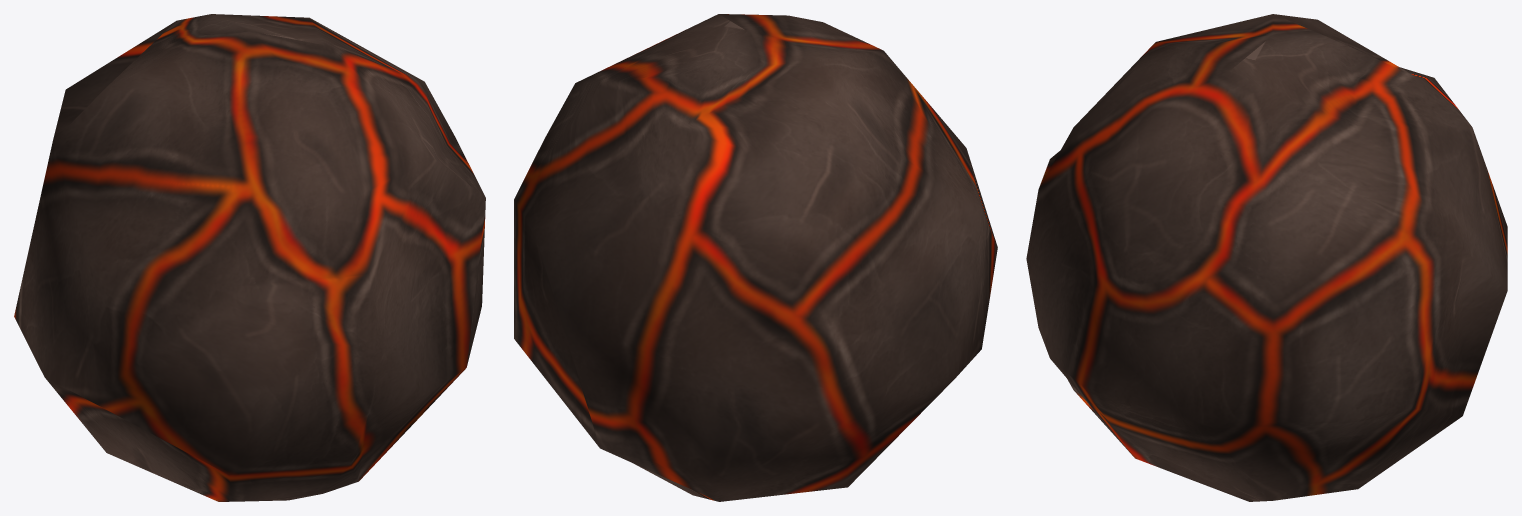
File: Fireball (Low Quality).glb
The picture shows the model from 3 angles, left to right: view 1: azimuth 30°, elevation 25°; view 2: azimuth 150°, elevation 25°; view 3: azimuth 270°, elevation 25°; orthographic projection.
Parts seen in each view (by area): view 1: Fireball; view 2: Fireball; view 3: Fireball.
Part boxes in pixels (x1,y1,x2,y2): Fireball: (14,14,485,501); Fireball: (514,14,997,501); Fireball: (1026,14,1507,501).
Bounding box in the file's own units: 0.7553 × 0.7941 × 0.7747.
1 material, 1 textured.
